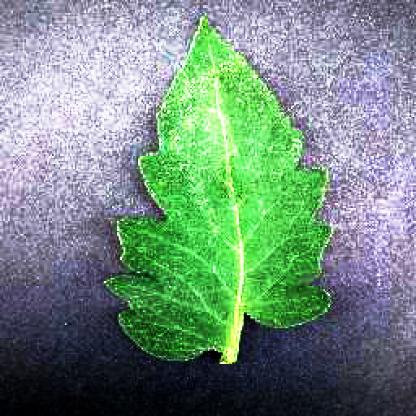Healthy: (101, 14, 335, 366)
